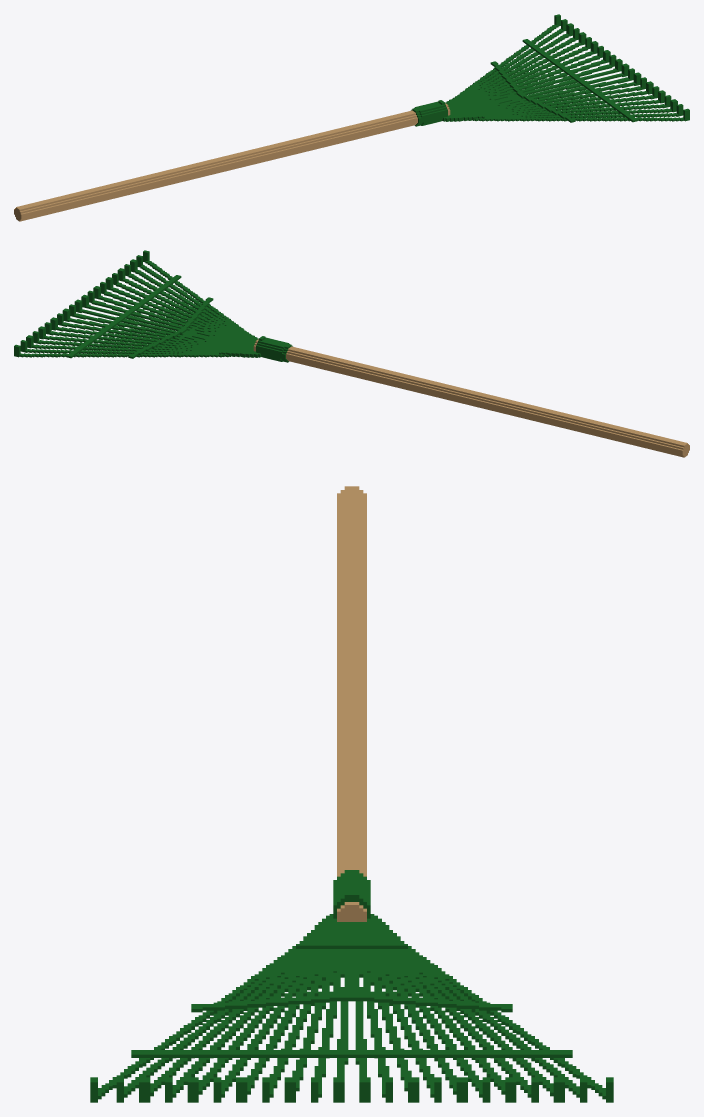
Rendered from rake_plastic.glb.
The picture shows the model from 3 angles, top to bottom: view 1: azimuth 30°, elevation 25°; view 2: azimuth 150°, elevation 25°; view 3: azimuth 270°, elevation 25°; orthographic projection. The views are drawn at different scales.
Visible parts, largest first — view 1: rake_plastic:compound; view 2: rake_plastic:compound; view 3: rake_plastic:compound.
Boxes of the visible parts, x1,y1,x2,y2 form: rake_plastic:compound: (14,14,689,221); rake_plastic:compound: (14,250,689,457); rake_plastic:compound: (90,486,613,1102).
Size of the model in its own units: 1.5 by 0.04 by 0.56.
